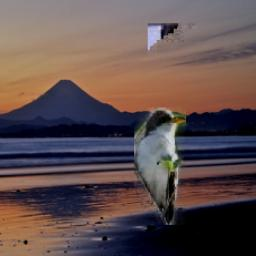Crow: (148, 23, 200, 165)
Cuckoo: (134, 107, 186, 225)
